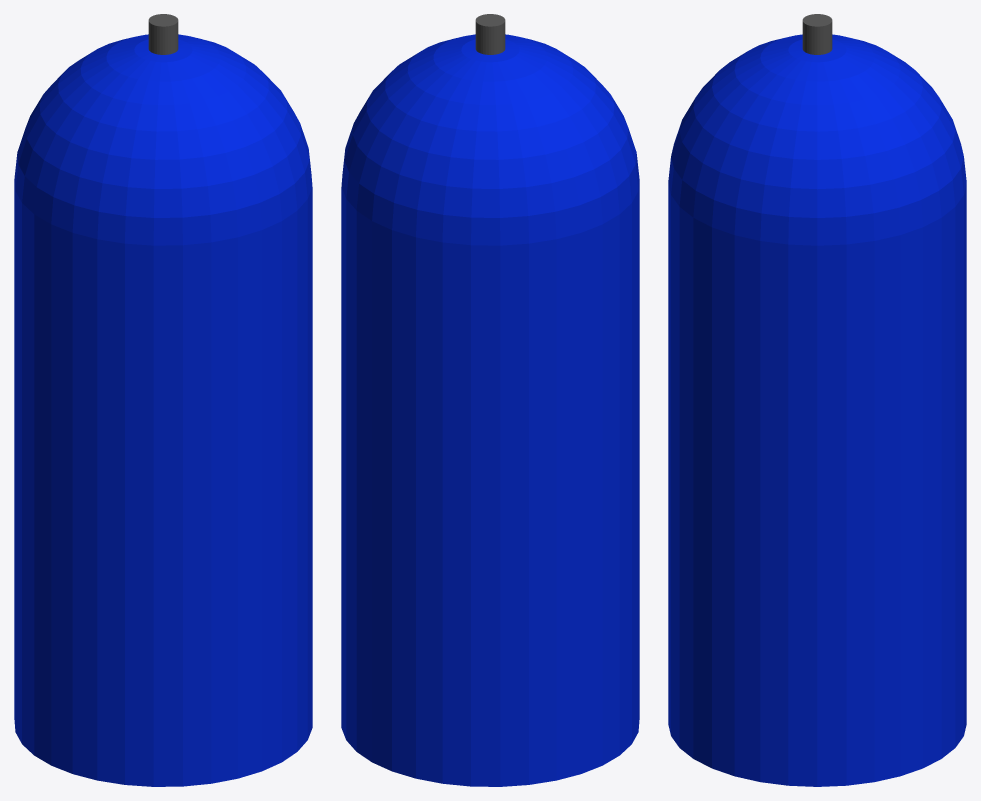
File: nitro.fbx
3 views of the same model, side by side, from view 1: azimuth 30°, elevation 25°; view 2: azimuth 150°, elevation 25°; view 3: azimuth 270°, elevation 25° (orthographic).
Visible parts, largest first — view 1: Cilindro.001; view 2: Cilindro.001; view 3: Cilindro.001.
Part boxes in pixels (left/top/right/bottom): Cilindro.001: left=14, top=14, right=312, bottom=786; Cilindro.001: left=341, top=14, right=639, bottom=786; Cilindro.001: left=668, top=14, right=966, bottom=786.
Size of the model in its own units: 2 by 5.2 by 2.
